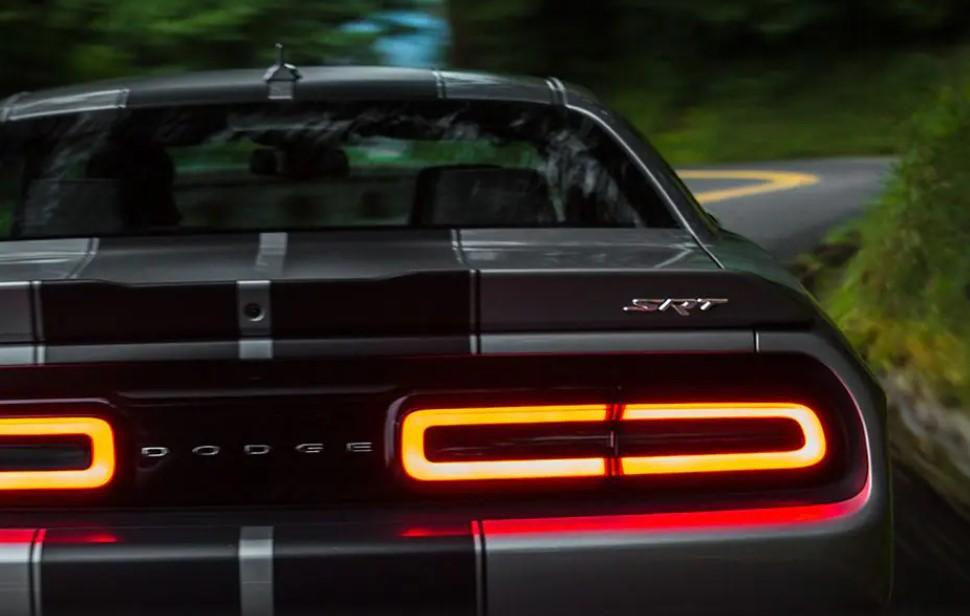dodge: (125, 428, 391, 472)
